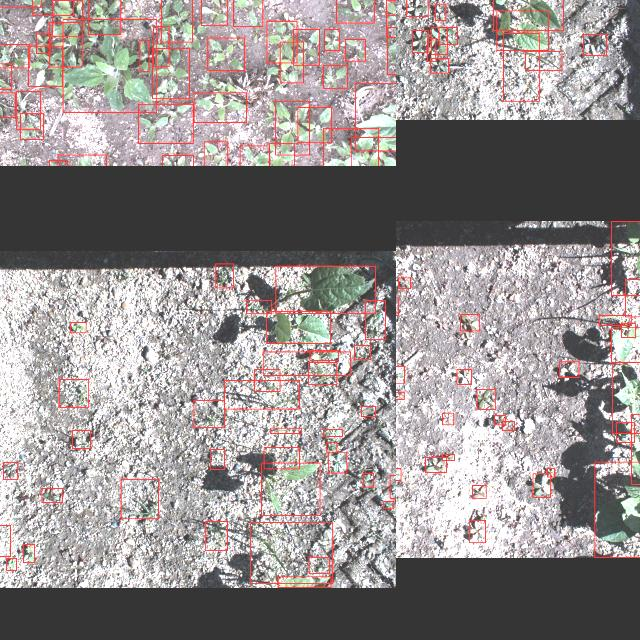crop: (62, 19, 156, 112), (275, 266, 375, 312), (593, 462, 640, 558), (260, 462, 320, 516), (355, 83, 396, 151), (611, 220, 640, 295), (493, 0, 563, 30), (496, 11, 548, 51), (611, 362, 640, 433), (266, 311, 330, 343), (610, 328, 640, 362), (278, 576, 330, 588), (57, 154, 105, 166)
weed: (250, 522, 332, 584), (502, 33, 538, 101), (224, 380, 298, 410), (138, 104, 192, 144), (262, 351, 350, 375), (322, 128, 377, 166), (275, 101, 309, 155), (152, 49, 188, 99), (48, 22, 82, 68), (194, 93, 246, 123), (120, 479, 158, 519), (28, 46, 62, 86), (160, 0, 191, 42), (350, 138, 396, 166), (266, 21, 296, 63), (297, 107, 331, 143), (206, 38, 244, 70), (87, 0, 120, 35), (52, 0, 82, 36), (279, 42, 303, 82), (293, 29, 319, 65), (16, 91, 40, 129), (192, 400, 224, 428), (335, 0, 373, 23), (58, 379, 88, 407), (365, 300, 385, 340), (232, 0, 262, 26), (264, 447, 298, 469), (0, 44, 29, 68), (525, 51, 561, 70), (205, 521, 227, 551), (201, 0, 227, 25), (152, 26, 168, 66), (308, 362, 336, 384), (31, 0, 72, 15), (624, 279, 640, 317), (239, 146, 269, 166), (203, 142, 227, 166), (20, 114, 42, 140), (253, 369, 279, 391), (268, 144, 293, 166), (322, 66, 346, 88), (582, 34, 606, 56), (344, 39, 364, 61), (430, 27, 446, 54), (215, 263, 233, 287), (532, 474, 550, 498), (469, 520, 485, 544), (328, 452, 347, 472), (386, 0, 396, 37), (411, 29, 427, 52), (476, 389, 494, 409), (616, 422, 634, 442), (0, 92, 14, 117), (161, 155, 192, 166), (459, 314, 479, 331), (598, 315, 632, 325), (406, 0, 427, 16), (308, 558, 329, 574), (246, 299, 270, 313), (72, 430, 90, 448), (0, 525, 10, 556), (324, 29, 338, 51), (424, 458, 446, 472), (429, 58, 448, 74), (438, 28, 457, 44), (2, 462, 18, 480), (36, 34, 50, 54), (210, 449, 224, 469), (310, 350, 338, 360), (41, 488, 61, 502), (558, 362, 578, 376), (0, 63, 11, 88), (140, 40, 148, 72), (426, 38, 436, 62), (354, 345, 370, 359), (620, 322, 634, 338), (456, 370, 472, 384), (22, 545, 34, 563), (471, 485, 485, 499), (434, 4, 446, 20), (270, 428, 300, 434), (389, 475, 396, 498), (70, 322, 86, 332), (363, 473, 373, 487), (322, 429, 342, 436), (361, 406, 375, 416), (396, 365, 404, 382), (6, 558, 16, 570), (398, 278, 410, 288), (442, 413, 452, 425), (502, 422, 514, 431), (326, 442, 336, 452), (494, 415, 504, 425), (49, 161, 67, 166), (383, 501, 393, 509), (546, 468, 554, 478), (442, 455, 454, 461), (396, 392, 404, 400), (396, 468, 400, 480)
